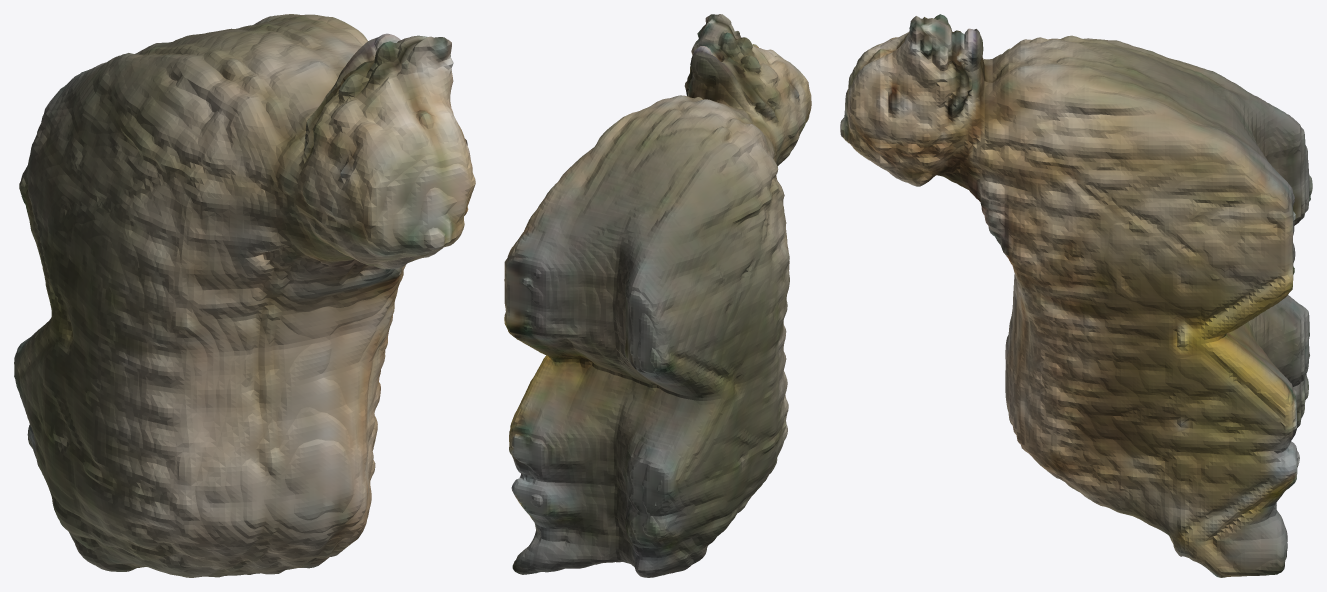
3 views of the same model, side by side, from view 1: azimuth 30°, elevation 25°; view 2: azimuth 150°, elevation 25°; view 3: azimuth 270°, elevation 25° (orthographic). The views are drawn at different scales.
Visible parts, largest first — view 1: world; view 2: world; view 3: world.
Part boxes in pixels (box(x1,y1,x2,y2)): world: box(14, 14, 475, 577); world: box(504, 14, 811, 577); world: box(840, 14, 1312, 577).
Size of the model in its own units: 0.4554 by 1.01 by 0.8039.
